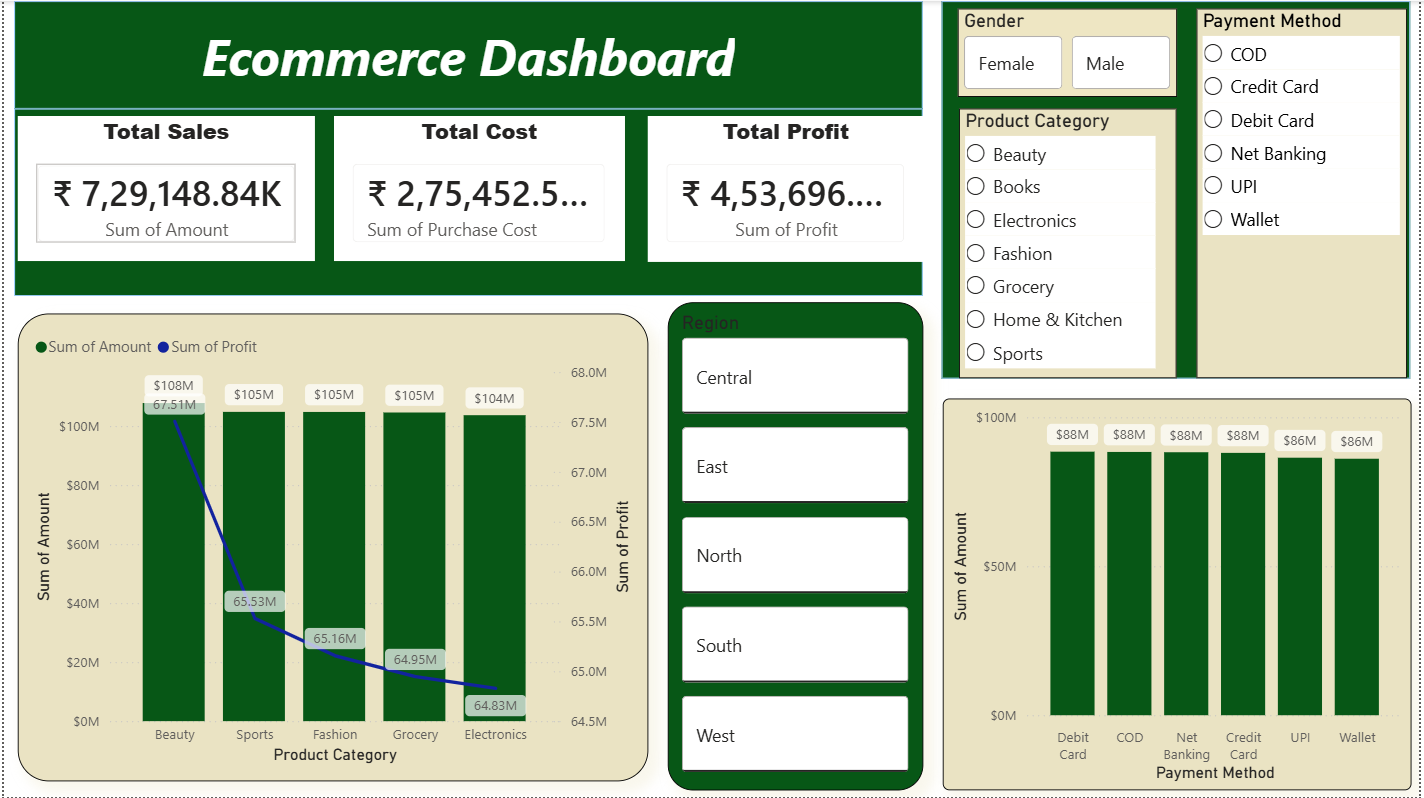

The dashboard page shown, as its layout file describes it:
{"tool":"powerbi","page":{"name":"Page 1","canvas":[1280,720],"ordinal":0},"visuals":[{"type":"shape","box":[9.3,0,822.1,97.7],"z":0},{"type":"shape","box":[9.3,97.7,822.1,169.8],"z":1000},{"type":"shape","box":[848,0,424,341.7],"z":2000},{"type":"advancedSlicerVisual","fields":{"Values":["Ecommerce Sales Data.Gender"]},"box":[862.9,7.1,198.6,80],"z":3000},{"type":"listSlicer","fields":{"Values":["Ecommerce Sales Data.Payment Method"]},"box":[1078.6,7.1,190,334.3],"z":4000},{"type":"listSlicer","fields":{"Values":["Ecommerce Sales Data.Product Category"]},"box":[864.3,97.1,197.1,244.3],"z":5000},{"type":"cardVisual","title":"Total Sales","fields":{"Data":["Sum(Ecommerce Sales Data.Amount)"]},"box":[12.9,104.3,268.6,131.4],"z":6000},{"type":"cardVisual","title":"Total Cost","fields":{"Data":["Sum(Ecommerce Sales Data.Purchase Cost)"]},"box":[298.6,104.3,262.9,131.4],"z":7000},{"type":"cardVisual","title":"Total Profit","fields":{"Data":["Sum(Ecommerce Sales Data.Profit)"]},"box":[581.8,104.3,249.7,131.7],"z":8000},{"type":"lineClusteredColumnComboChart","fields":{"Category":["Ecommerce Sales Data.Product Category"],"Y":["Sum(Ecommerce Sales Data.Amount)"],"Y2":["Sum(Ecommerce Sales Data.Profit)"]},"box":[12.9,282.9,570,422.9],"z":9000},{"type":"advancedSlicerVisual","fields":{"Values":["Ecommerce Sales Data.Region"]},"box":[600,272.9,231.4,441.4],"z":10000},{"type":"lineClusteredColumnComboChart","fields":{"Category":["Ecommerce Sales Data.Payment Method"],"Y":["Sum(Ecommerce Sales Data.Amount)"]},"box":[848.6,360,424.3,354.3],"z":11000}]}

Visuals, with their boxes in screenshot pixels (x1, y1, x2, y2), scaled from the page's 1280x720 canvas onto the 1424x798 screenshot:
shape: l=10, t=0, r=925, b=108
shape: l=10, t=108, r=925, b=296
shape: l=943, t=0, r=1415, b=379
advancedSlicerVisual - Ecommerce Sales Data.Gender: l=960, t=8, r=1181, b=97
listSlicer - Ecommerce Sales Data.Payment Method: l=1200, t=8, r=1411, b=378
listSlicer - Ecommerce Sales Data.Product Category: l=962, t=108, r=1181, b=378
"Total Sales" cardVisual: l=14, t=116, r=313, b=261
"Total Cost" cardVisual: l=332, t=116, r=625, b=261
"Total Profit" cardVisual: l=647, t=116, r=925, b=262
lineClusteredColumnComboChart - Ecommerce Sales Data.Product Category x Sum(Ecommerce Sales Data.Amount): l=14, t=314, r=648, b=782
advancedSlicerVisual - Ecommerce Sales Data.Region: l=668, t=302, r=925, b=792
lineClusteredColumnComboChart - Ecommerce Sales Data.Payment Method x Sum(Ecommerce Sales Data.Amount): l=944, t=399, r=1416, b=792
